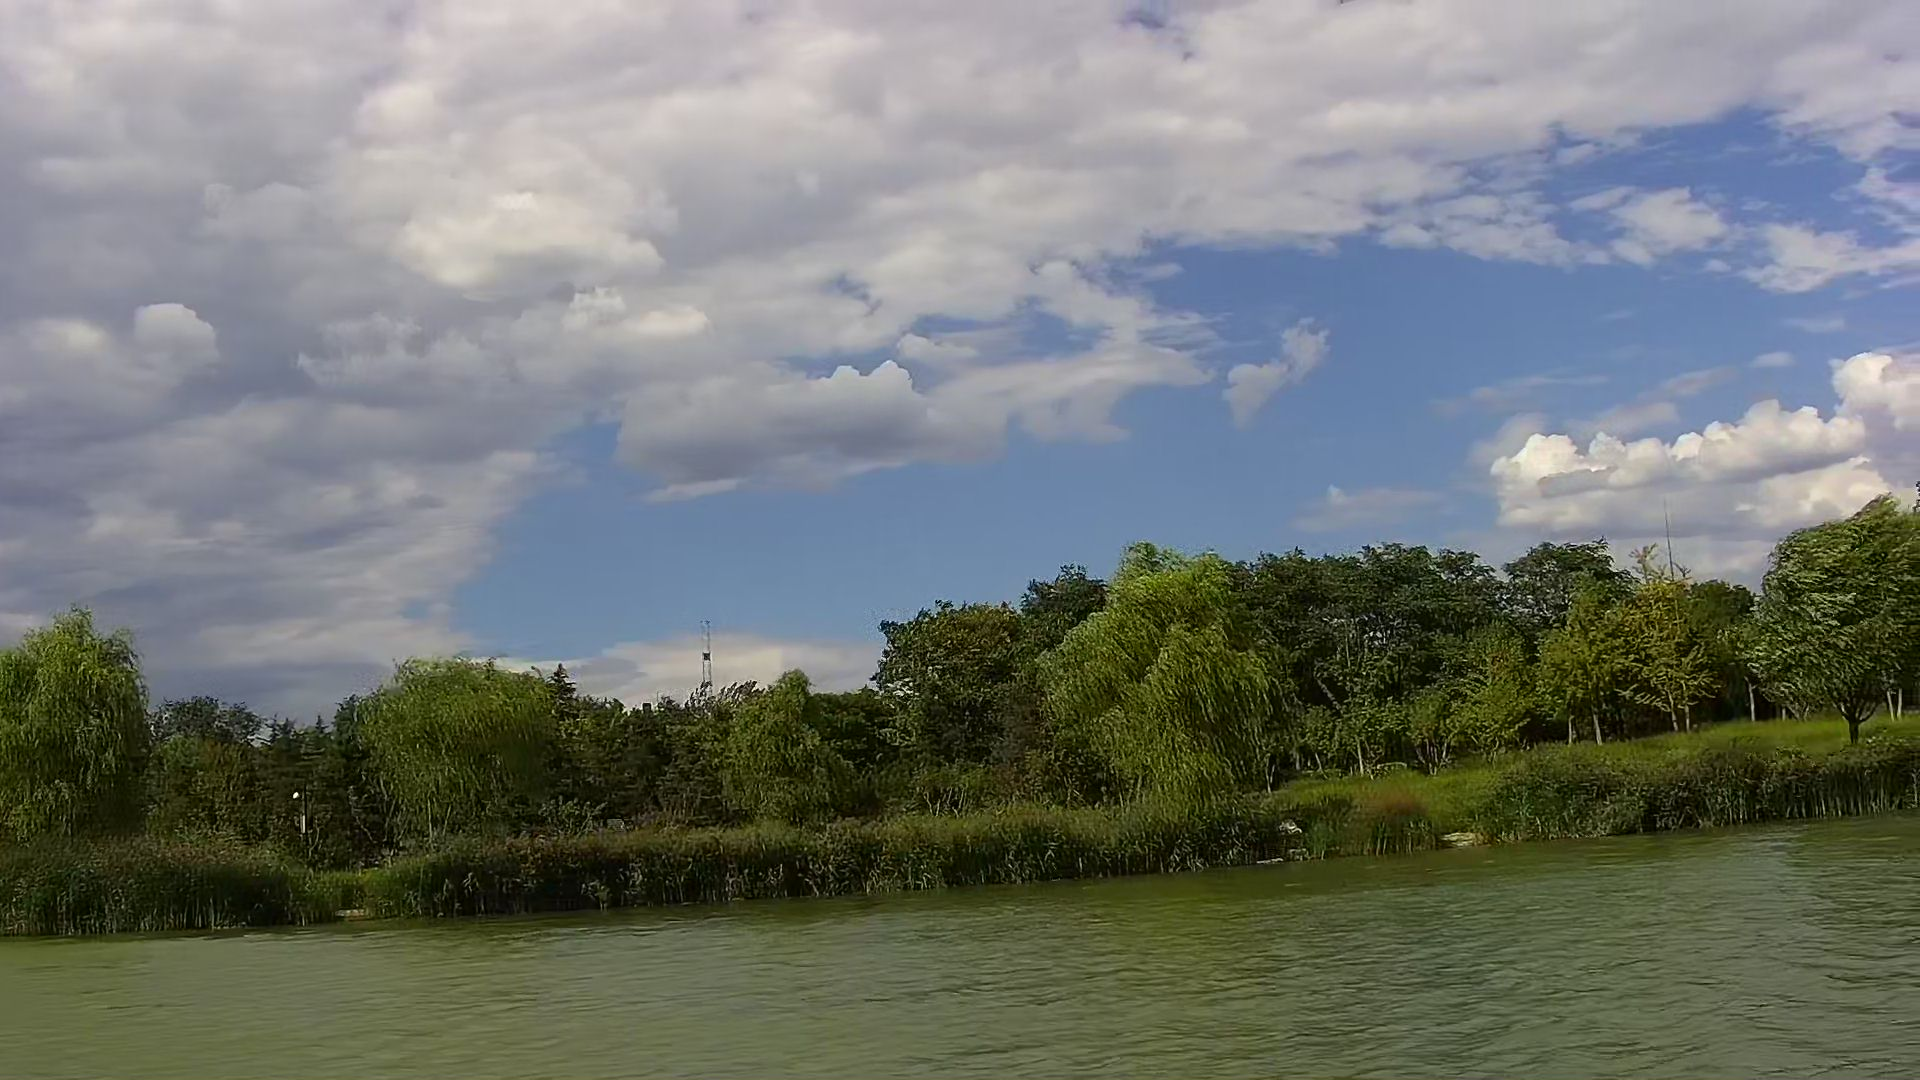rock: (1437, 829, 1485, 853)
